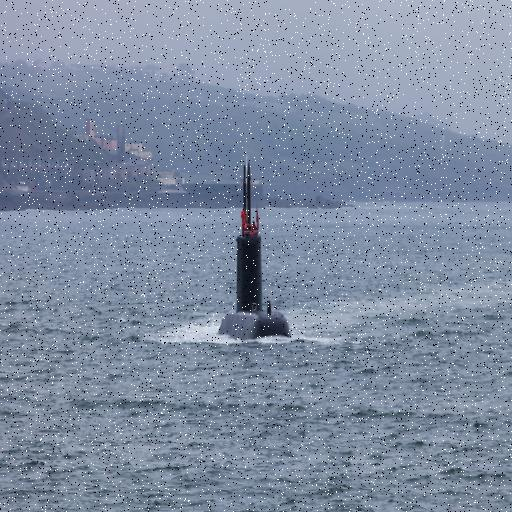submarine: (221, 165, 293, 344)
